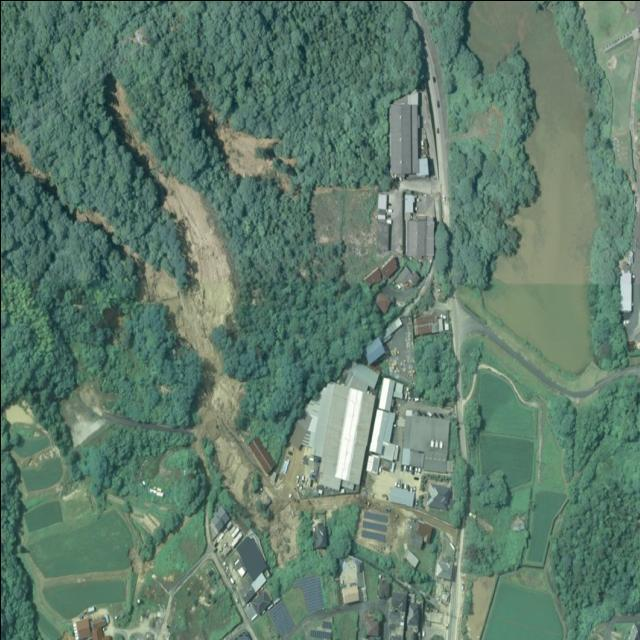landslide: (109, 79, 239, 411), (215, 124, 276, 175), (0, 130, 48, 178), (74, 207, 118, 235)
